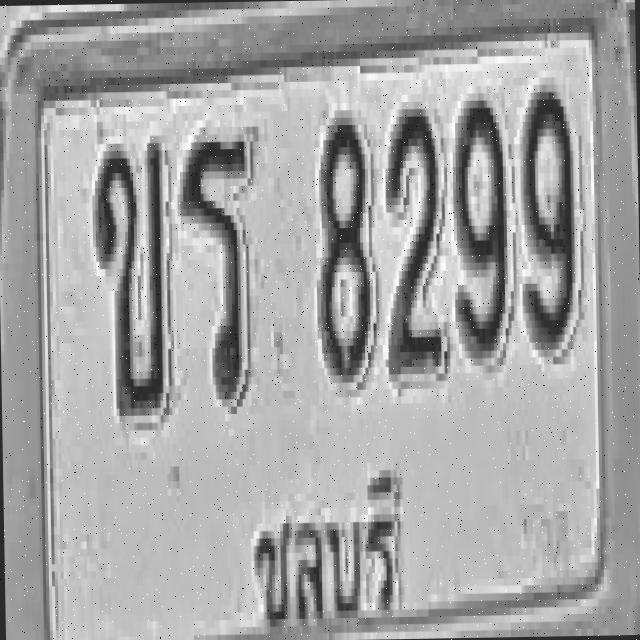11KhorKhai: (92, 135, 167, 416)
2: (384, 101, 444, 374)
44RorRuea: (178, 130, 260, 404)
8: (314, 113, 372, 379)
9: (518, 83, 576, 350), (451, 92, 509, 358)
Chonburi: (241, 463, 419, 640)
